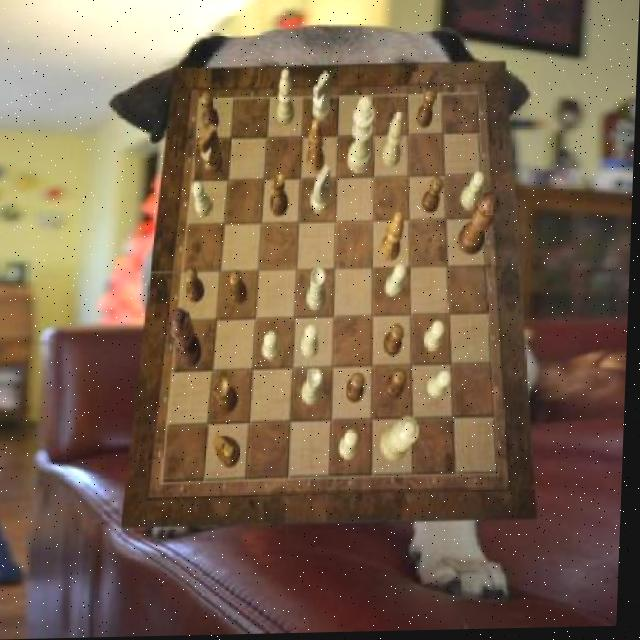bishop: (383, 213, 408, 264), (309, 119, 328, 174)
black-bishop: (172, 309, 206, 369)
black-king: (200, 125, 225, 176), (215, 434, 244, 469)
black-knight: (201, 93, 221, 132), (187, 268, 209, 303), (424, 180, 446, 215), (386, 371, 410, 403), (231, 271, 252, 306), (418, 91, 436, 131), (386, 326, 407, 359), (350, 373, 368, 405)
black-pawn: (460, 193, 503, 257)
black-queen: (217, 379, 243, 417), (272, 172, 291, 218)
black-rook: (384, 112, 406, 169), (278, 70, 297, 127)
white-bishop: (349, 98, 377, 176)
white-king: (313, 73, 334, 124), (312, 166, 333, 214)
white-knight: (463, 175, 487, 214), (194, 182, 215, 219), (387, 267, 409, 301), (426, 323, 447, 356), (430, 372, 454, 400), (303, 325, 322, 360), (342, 432, 362, 463), (265, 332, 283, 361)
white-pawn: (384, 417, 422, 463)
white-queen: (309, 269, 330, 312), (305, 369, 327, 407)
